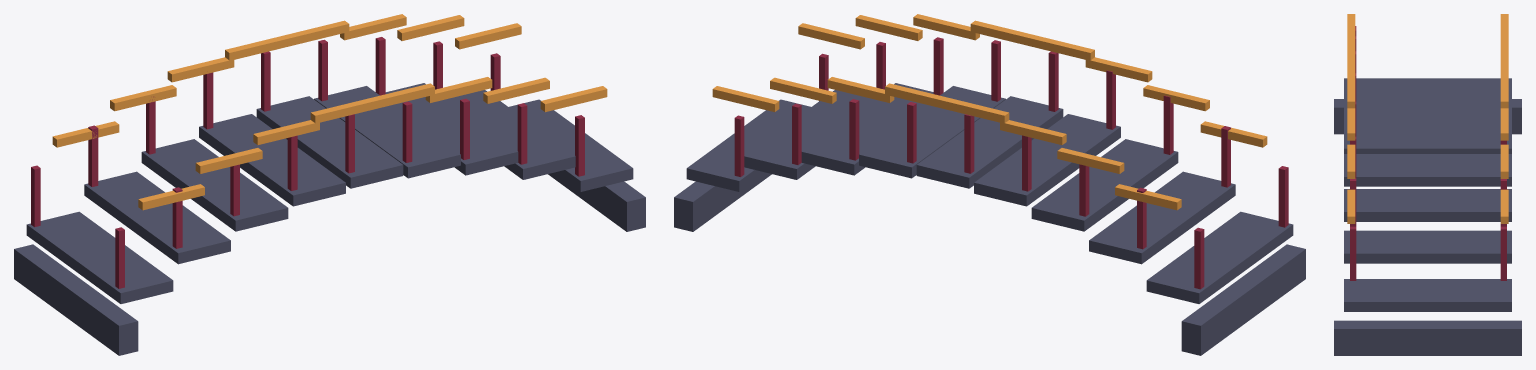
File: KGB_Moonfall_CurvedBridge_v16.obj
The picture shows the model from 3 angles, left to right: view 1: azimuth 30°, elevation 25°; view 2: azimuth 150°, elevation 25°; view 3: azimuth 270°, elevation 25°; orthographic projection. The views are drawn at different scales.
Visible parts, largest first — view 1: KGB_Moonfall_CurvedBridge_v16; view 2: KGB_Moonfall_CurvedBridge_v16; view 3: KGB_Moonfall_CurvedBridge_v16.
Part boxes in pixels (x1,y1,x2,y2): KGB_Moonfall_CurvedBridge_v16: [14, 14, 645, 355]; KGB_Moonfall_CurvedBridge_v16: [674, 14, 1305, 355]; KGB_Moonfall_CurvedBridge_v16: [1334, 14, 1521, 355].
Size of the model in its own units: 11 by 3.69 by 3.8.
